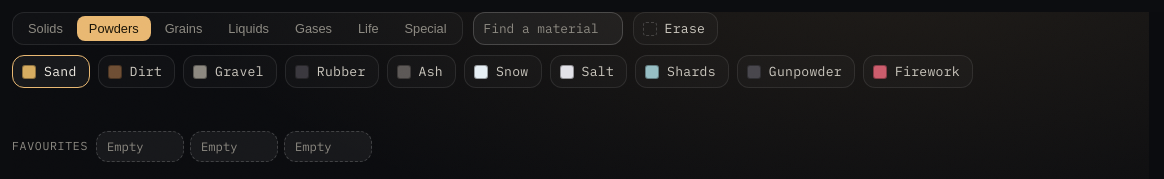
it: Palette › drops the search when a group is opened
Type "chlor" into the search field named "Search materials" at (548, 28), box [472, 12, 622, 45]
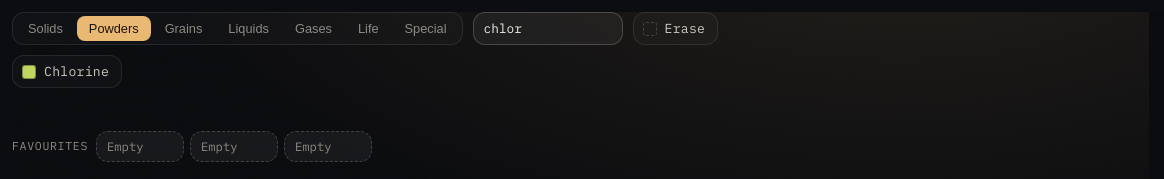
Click the button "Powders" at (114, 28), box [77, 16, 151, 41]
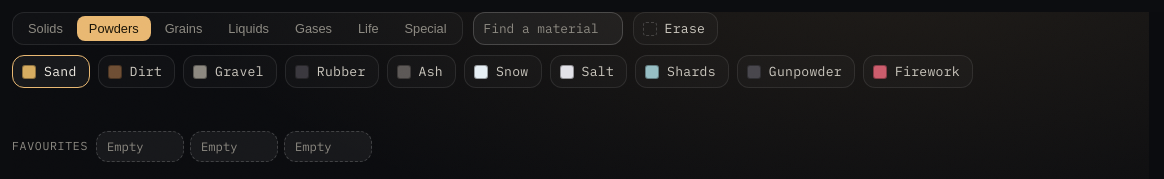
Result: the button "Gravel" is shown at [183, 55, 277, 88]
Result: the search field named "Search materials" is empty at [472, 12, 622, 45]
